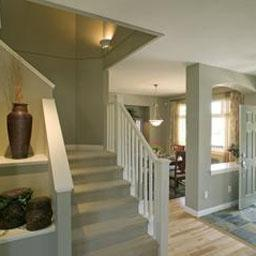Escaleras: (46, 87, 159, 254)
